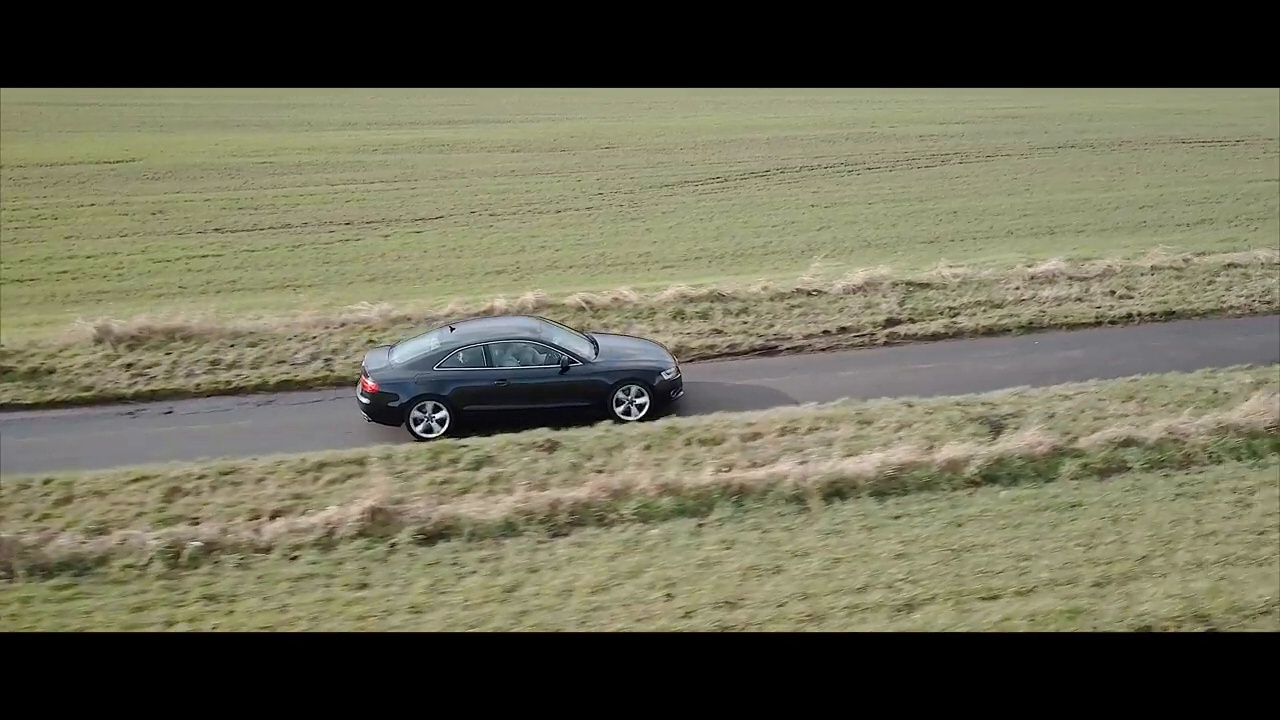araba: (355, 313, 688, 441)
